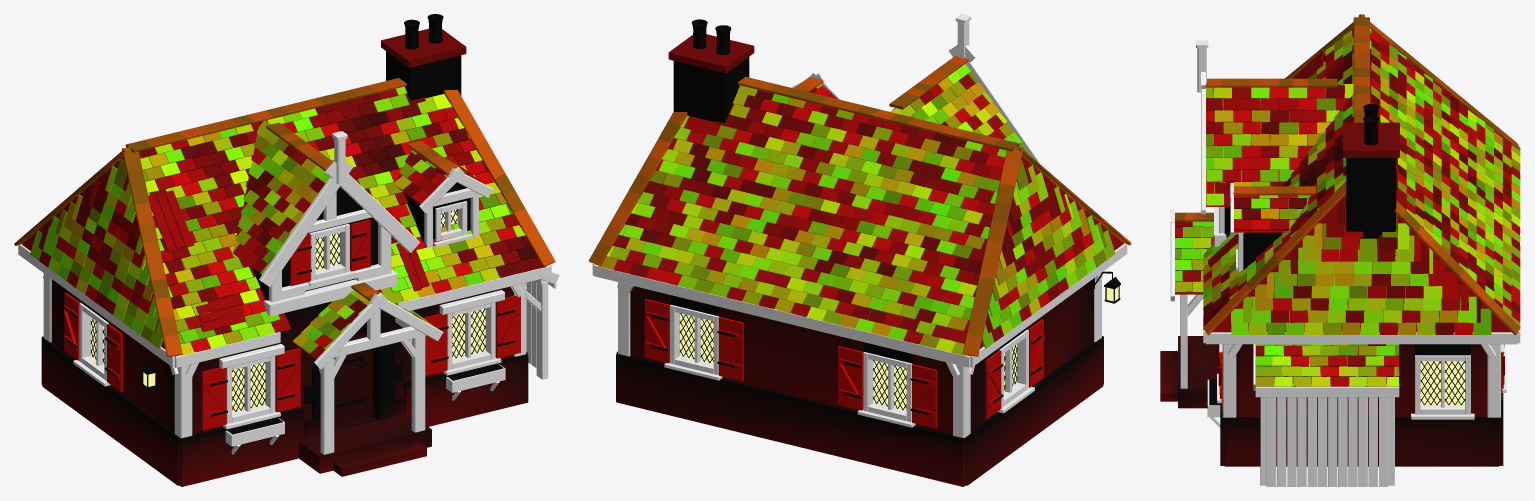
The model's file is SilverbrookCottage5.fbx.
3 views of the same model, side by side, from view 1: azimuth 30°, elevation 25°; view 2: azimuth 150°, elevation 25°; view 3: azimuth 270°, elevation 25° (orthographic).
Parts seen in each view (by area): view 1: SM_SBCottage5_Roof, SM_SBCottage5_Masonry, SM_SBCottage5_Timber, SM_SBCottage5_Details; view 2: SM_SBCottage5_Roof, SM_SBCottage5_Masonry, SM_SBCottage5_Timber, SM_SBCottage5_Details; view 3: SM_SBCottage5_Roof, SM_SBCottage5_Timber, SM_SBCottage5_Masonry, SM_SBCottage5_Details.
Boxes of the visible parts, x1=… form: SM_SBCottage5_Roof: x1=14, y1=78, x2=555, y2=359; SM_SBCottage5_Masonry: x1=41, y1=28, x2=528, y2=486; SM_SBCottage5_Timber: x1=18, y1=131, x2=559, y2=454; SM_SBCottage5_Details: x1=63, y1=14, x2=520, y2=434; SM_SBCottage5_Roof: x1=588, y1=56, x2=1131, y2=356; SM_SBCottage5_Masonry: x1=616, y1=34, x2=1103, y2=486; SM_SBCottage5_Timber: x1=592, y1=14, x2=1127, y2=437; SM_SBCottage5_Details: x1=644, y1=19, x2=1120, y2=428; SM_SBCottage5_Roof: x1=1175, y1=14, x2=1520, y2=386; SM_SBCottage5_Timber: x1=1170, y1=40, x2=1520, y2=486; SM_SBCottage5_Masonry: x1=1160, y1=122, x2=1503, y2=466; SM_SBCottage5_Details: x1=1209, y1=104, x2=1504, y2=411.
Size of the model in its own units: 785 by 598 by 578.
